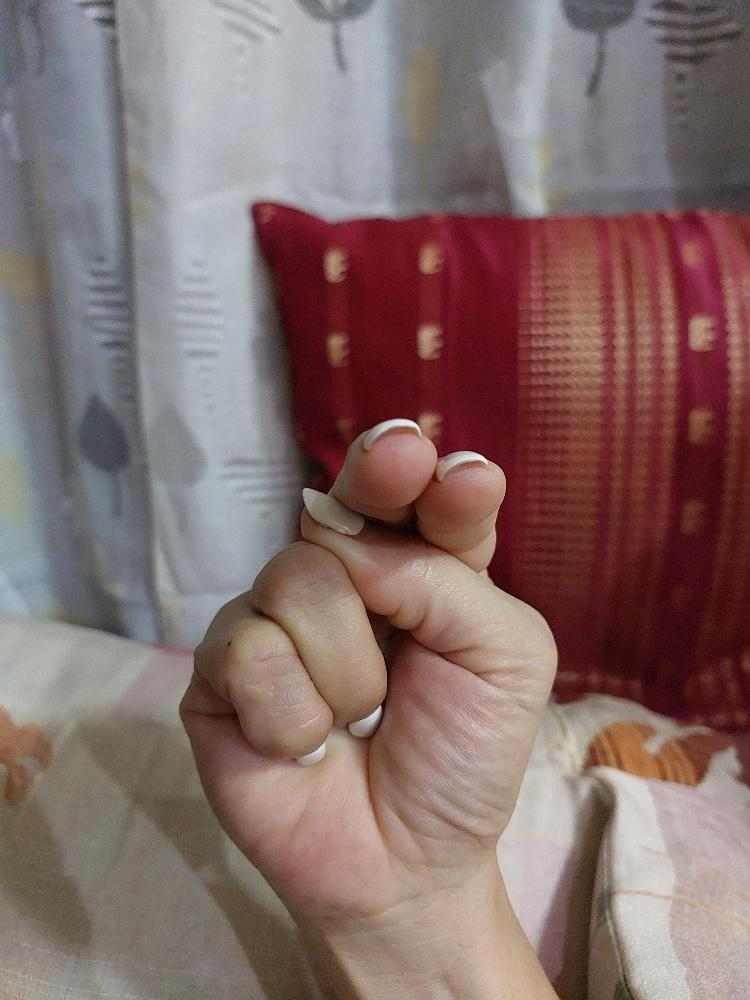n: (173, 413, 563, 911)
